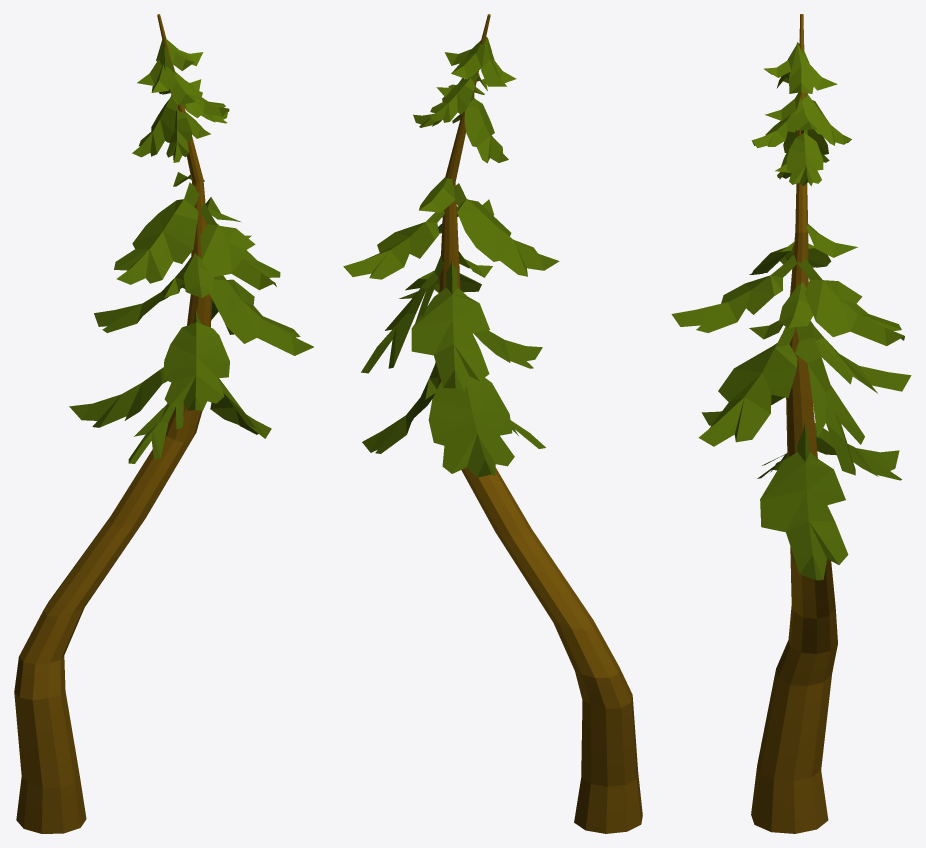
Rendered from source.glb.
3 renders of one model, left to right at view 1: azimuth 30°, elevation 25°; view 2: azimuth 150°, elevation 25°; view 3: azimuth 270°, elevation 25°, orthographic. The views are drawn at different scales.
Parts seen in each view (by area): view 1: coniferous_trees_12; view 2: coniferous_trees_12; view 3: coniferous_trees_12.
Part boxes in pixels (x1,y1,x2,y2): coniferous_trees_12: [14, 14, 313, 833]; coniferous_trees_12: [343, 14, 642, 833]; coniferous_trees_12: [671, 14, 911, 833].
Bounding box in the file's own units: 1.75 × 4.93 × 1.24.
